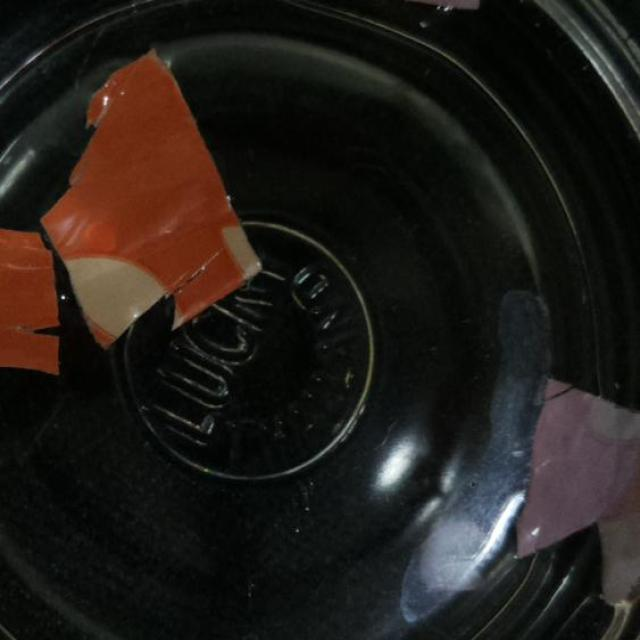fiber: (34, 40, 266, 338), (509, 361, 639, 602), (0, 220, 66, 382)
